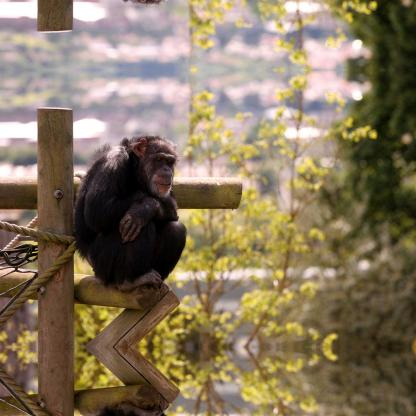Monkey: (68, 127, 188, 313)
